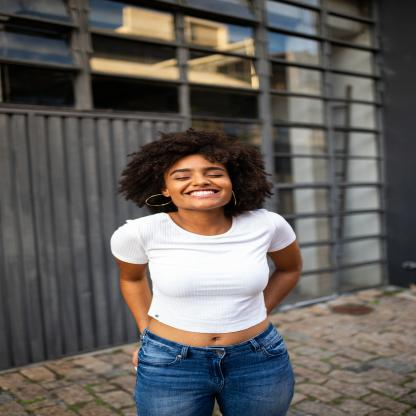Eye: (204, 170, 226, 180), (170, 174, 192, 182)
Mouth: (182, 186, 223, 200)
Nose: (190, 172, 210, 188)
